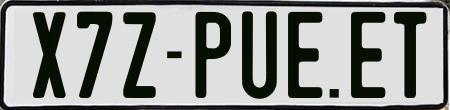7: (77, 10, 118, 99)
E: (350, 9, 387, 100), (287, 9, 321, 95)
P: (195, 10, 233, 100)
T: (392, 10, 424, 102)
U: (240, 8, 280, 97)
X: (33, 11, 69, 102)
Z: (121, 12, 160, 101)
